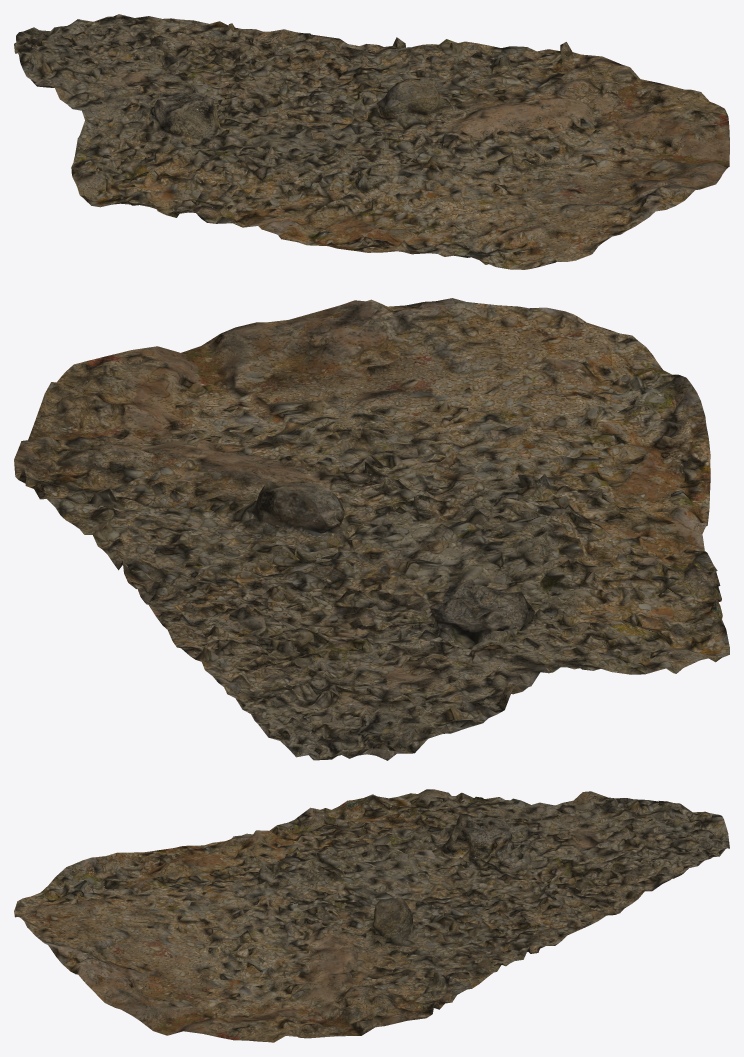
The model's file is coast_land_rocks_04.glb.
3 renders of one model, top to bottom at view 1: azimuth 30°, elevation 25°; view 2: azimuth 150°, elevation 25°; view 3: azimuth 270°, elevation 25°, orthographic. The views are drawn at different scales.
Size of the model in its own units: 9.96 by 0.7994 by 11.49.
1 material, 1 textured.
